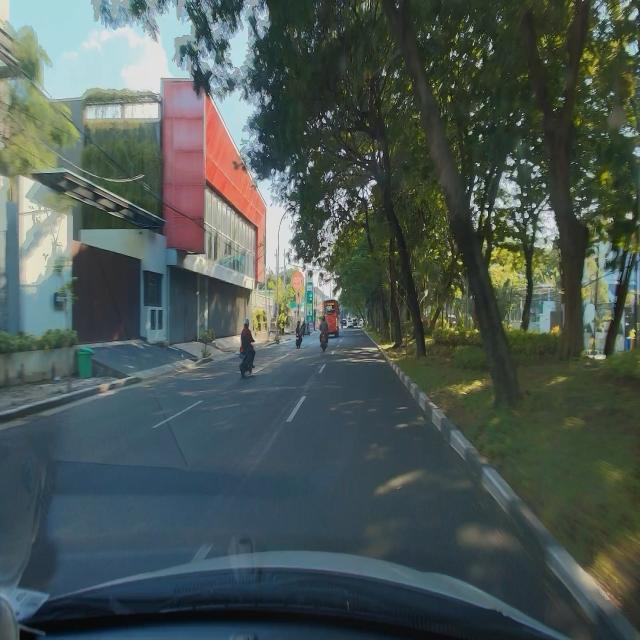bus: (322, 298, 341, 340)
